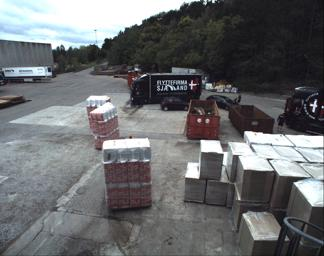rockwool_batts: (102, 138, 151, 211), (88, 104, 119, 148), (85, 92, 109, 117)
